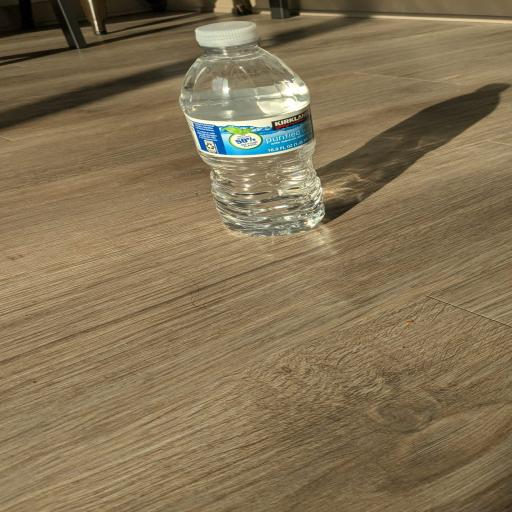waterbottle: (180, 22, 324, 235)
